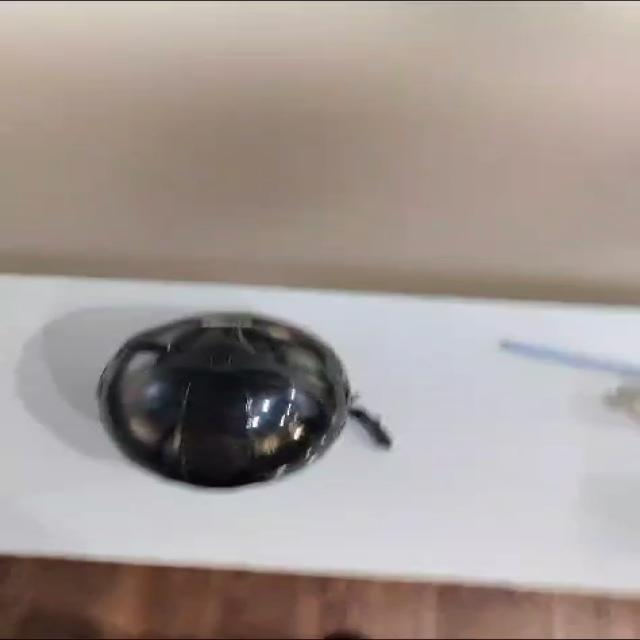helmet: (98, 306, 372, 498)
